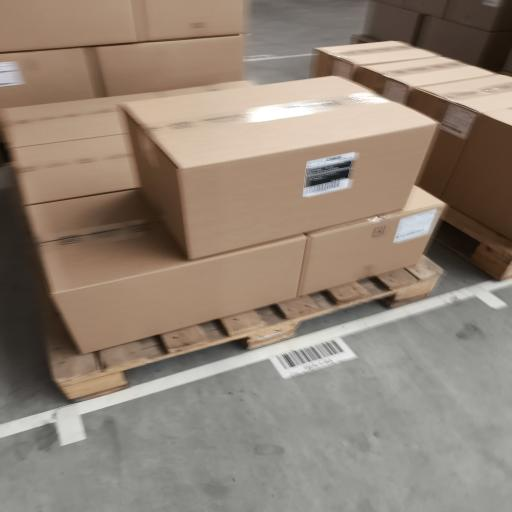pallet: (44, 257, 442, 399), (437, 207, 511, 280), (351, 35, 378, 44)
